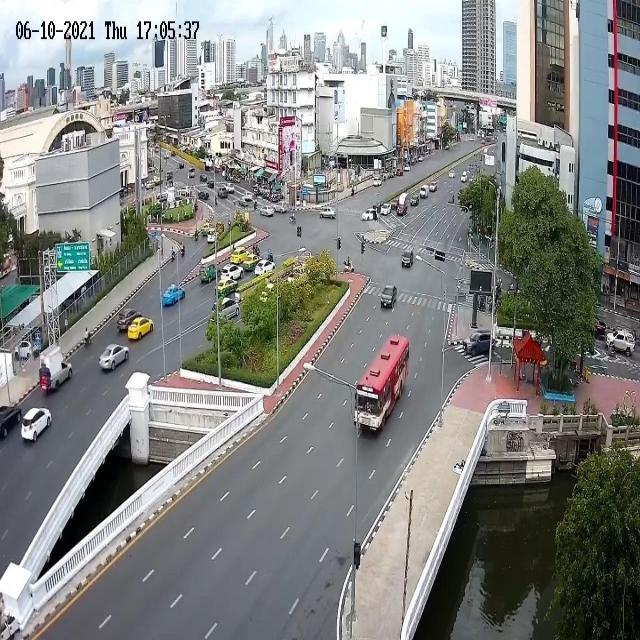Bus: (354, 333, 409, 435)
Car: (21, 407, 52, 443), (98, 344, 130, 372), (462, 330, 494, 356), (0, 405, 22, 439), (127, 316, 153, 341), (116, 308, 141, 332), (162, 286, 185, 308), (217, 278, 237, 300), (381, 284, 397, 308), (200, 265, 218, 284), (16, 340, 32, 361), (401, 249, 414, 268), (362, 208, 377, 222), (319, 207, 336, 219), (259, 205, 274, 217), (201, 221, 213, 236), (273, 202, 288, 214), (238, 196, 253, 208), (379, 202, 392, 215), (302, 182, 314, 196), (198, 189, 210, 200), (218, 186, 228, 198), (410, 194, 419, 207), (389, 199, 398, 211), (373, 176, 382, 187), (429, 183, 437, 193), (207, 179, 214, 189), (200, 174, 208, 182), (404, 164, 411, 171), (163, 151, 170, 158), (449, 170, 455, 178), (178, 162, 184, 169), (418, 155, 424, 162), (171, 150, 176, 156)
Cycle: (343, 260, 354, 273), (507, 283, 518, 295), (84, 331, 92, 347), (477, 296, 485, 312), (607, 344, 616, 358), (289, 214, 296, 222), (171, 249, 175, 261), (181, 246, 185, 257), (228, 220, 231, 231), (215, 198, 218, 207), (351, 188, 354, 196)
Truck: (40, 344, 72, 394), (607, 329, 636, 357), (212, 296, 240, 322), (220, 264, 244, 283), (253, 259, 275, 278), (241, 252, 260, 272), (230, 248, 250, 265), (397, 192, 408, 216), (419, 186, 428, 198), (225, 183, 235, 193), (460, 171, 468, 183)
Van: (207, 228, 216, 244)
